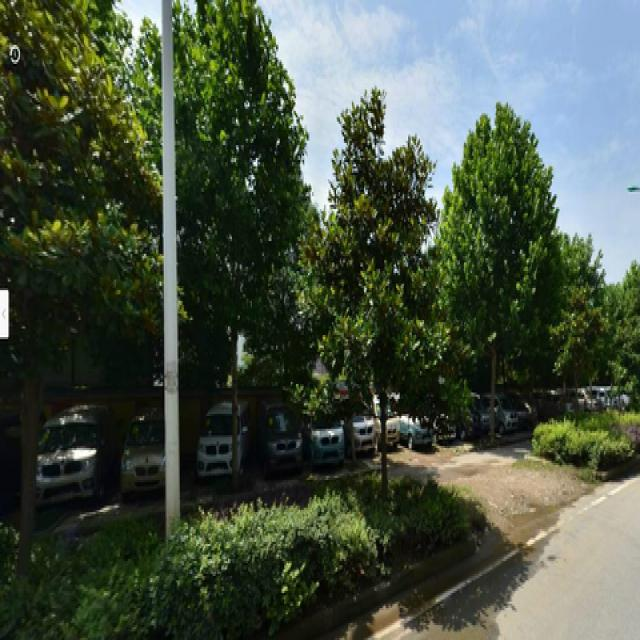magn: (317, 98, 433, 504)
